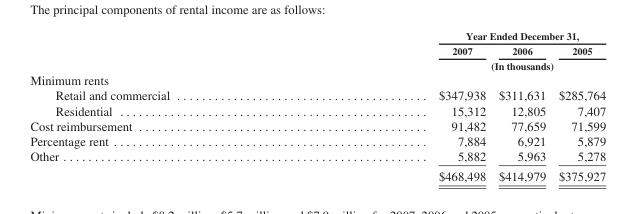table: (29, 29, 605, 182)
table column: (29, 29, 303, 182), (303, 29, 491, 182), (491, 29, 551, 182), (551, 29, 605, 182)
table column header: (29, 29, 605, 72)
table projected row header: (29, 72, 605, 87)
table row: (29, 148, 605, 165), (29, 165, 605, 182), (29, 132, 605, 148), (29, 42, 605, 57), (29, 57, 605, 72), (29, 72, 605, 87), (29, 87, 605, 102), (29, 102, 605, 117), (29, 117, 605, 132), (29, 29, 605, 42)
table spanning cell: (303, 57, 605, 72), (303, 29, 605, 42)
